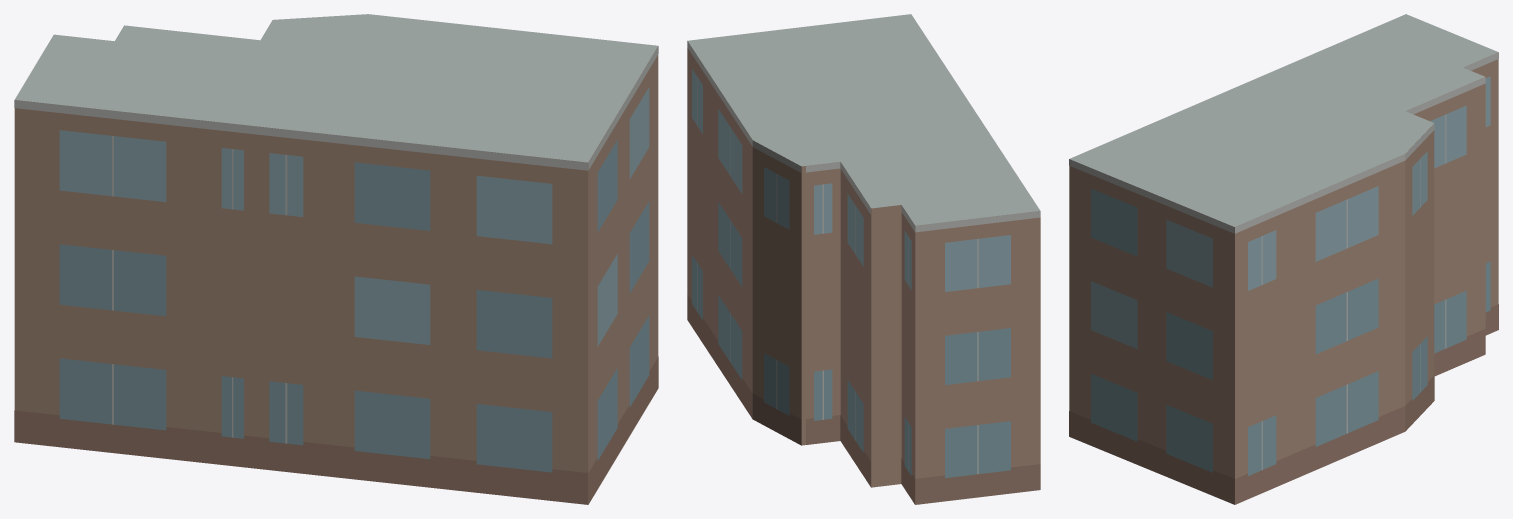
File: survey-upis-32754240.glb
3 renders of one model, left to right at view 1: azimuth 30°, elevation 25°; view 2: azimuth 150°, elevation 25°; view 3: azimuth 270°, elevation 25°, orthographic. The views are drawn at different scales.
Visible parts, largest first — view 1: survey-upis-32754240.tmp; view 2: survey-upis-32754240.tmp; view 3: survey-upis-32754240.tmp.
Boxes of the visible parts, <box> form: survey-upis-32754240.tmp: <box>14,14,658,504</box>; survey-upis-32754240.tmp: <box>687,14,1040,504</box>; survey-upis-32754240.tmp: <box>1069,14,1498,504</box>.
Size of the model in its own units: 16.8 by 10.2 by 14.31.
